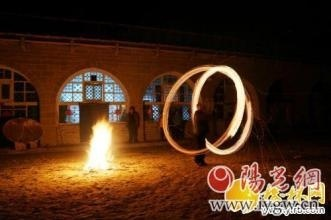fire: (83, 115, 113, 170)
